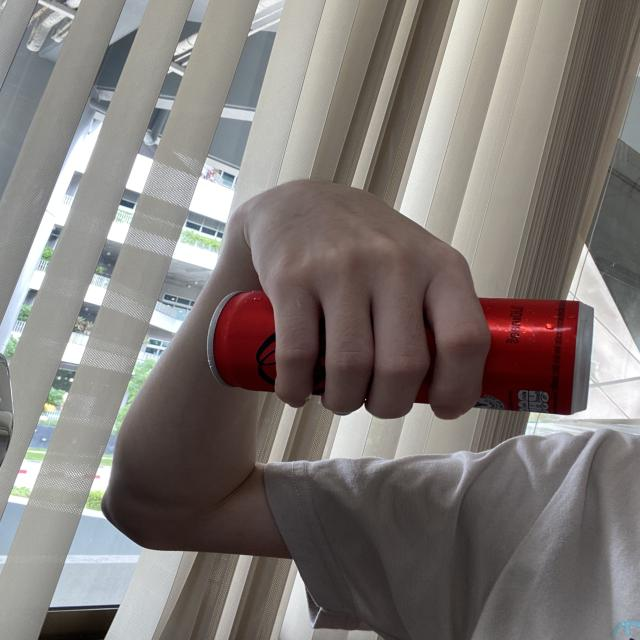can: (206, 289, 597, 419)
